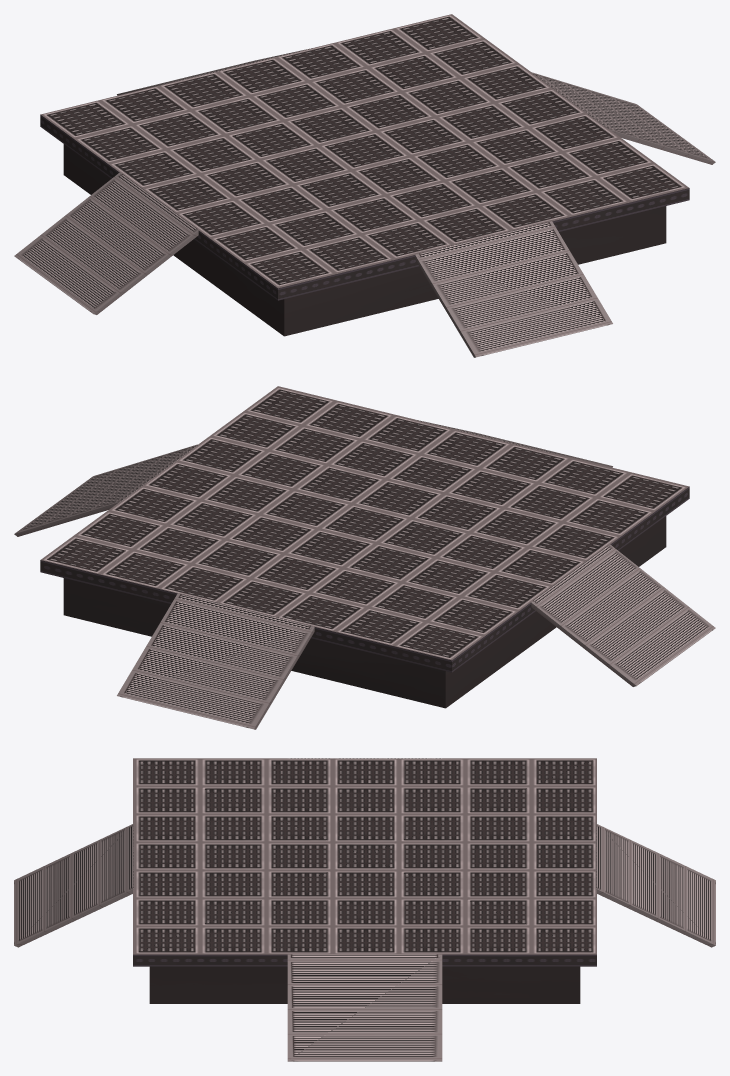
Rendered from Platform_Room1.glb.
The picture shows the model from 3 angles, top to bottom: view 1: azimuth 30°, elevation 25°; view 2: azimuth 150°, elevation 25°; view 3: azimuth 270°, elevation 25°; orthographic projection. The views are drawn at different scales.
Visible parts, largest first — view 1: Platform; view 2: Platform; view 3: Platform.
Boxes of the visible parts, x1=… form: Platform: x1=14, y1=14, x2=715, y2=357; Platform: x1=14, y1=386, x2=715, y2=729; Platform: x1=14, y1=758, x2=715, y2=1061.
Size of the model in its own units: 22.7 by 2.09 by 22.7.
Materials: 3 (3 with a texture image).
